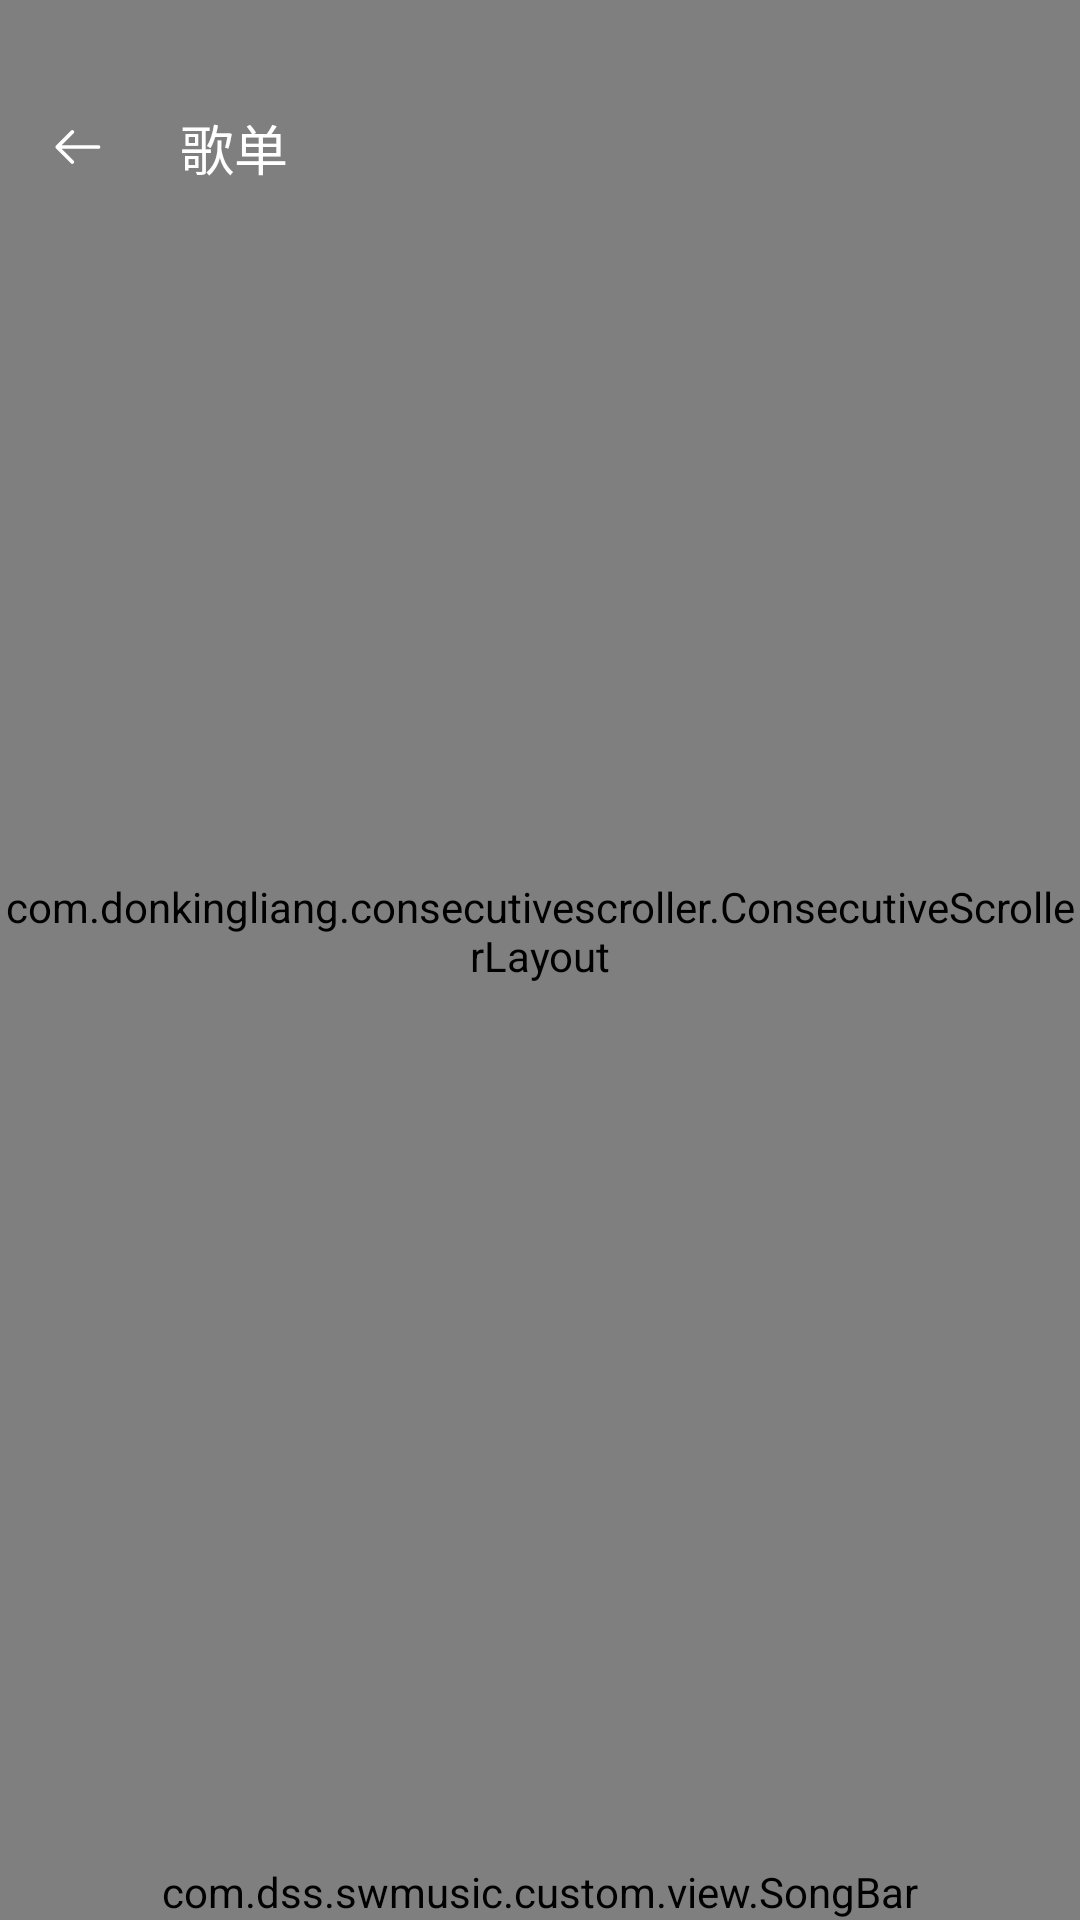

Where to tap for icons on this 1080×1920 app screen, as (x=x, y=y):
return: (x=77, y=147)
